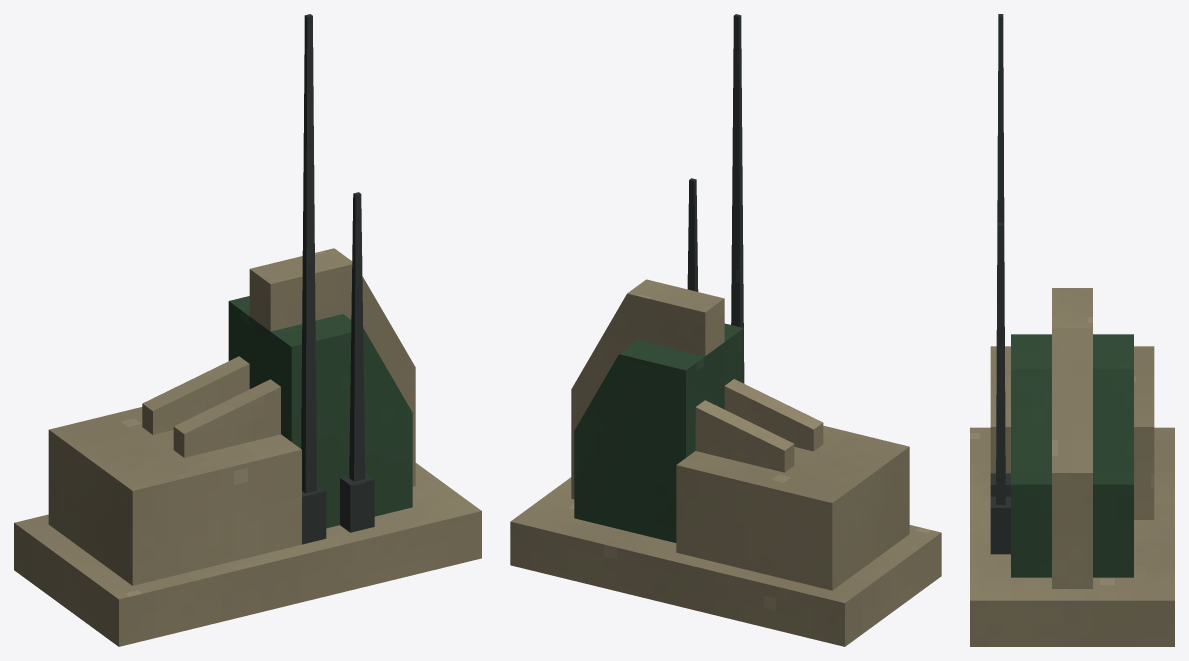
The model's file is item_artifactDetectorMk2.glb.
3 views of the same model, side by side, from view 1: azimuth 30°, elevation 25°; view 2: azimuth 150°, elevation 25°; view 3: azimuth 270°, elevation 25° (orthographic). The views are drawn at different scales.
Visible parts, largest first — view 1: Donor_space-machine_wireless_0; view 2: Donor_space-machine_wireless_0; view 3: Donor_space-machine_wireless_0.
Boxes of the visible parts, x1=… form: Donor_space-machine_wireless_0: x1=14, y1=14, x2=481, y2=646; Donor_space-machine_wireless_0: x1=510, y1=14, x2=941, y2=646; Donor_space-machine_wireless_0: x1=970, y1=14, x2=1174, y2=646.
Bounding box in the file's own units: 0.16 × 0.24 × 0.08.
3 materials, 3 textured.
